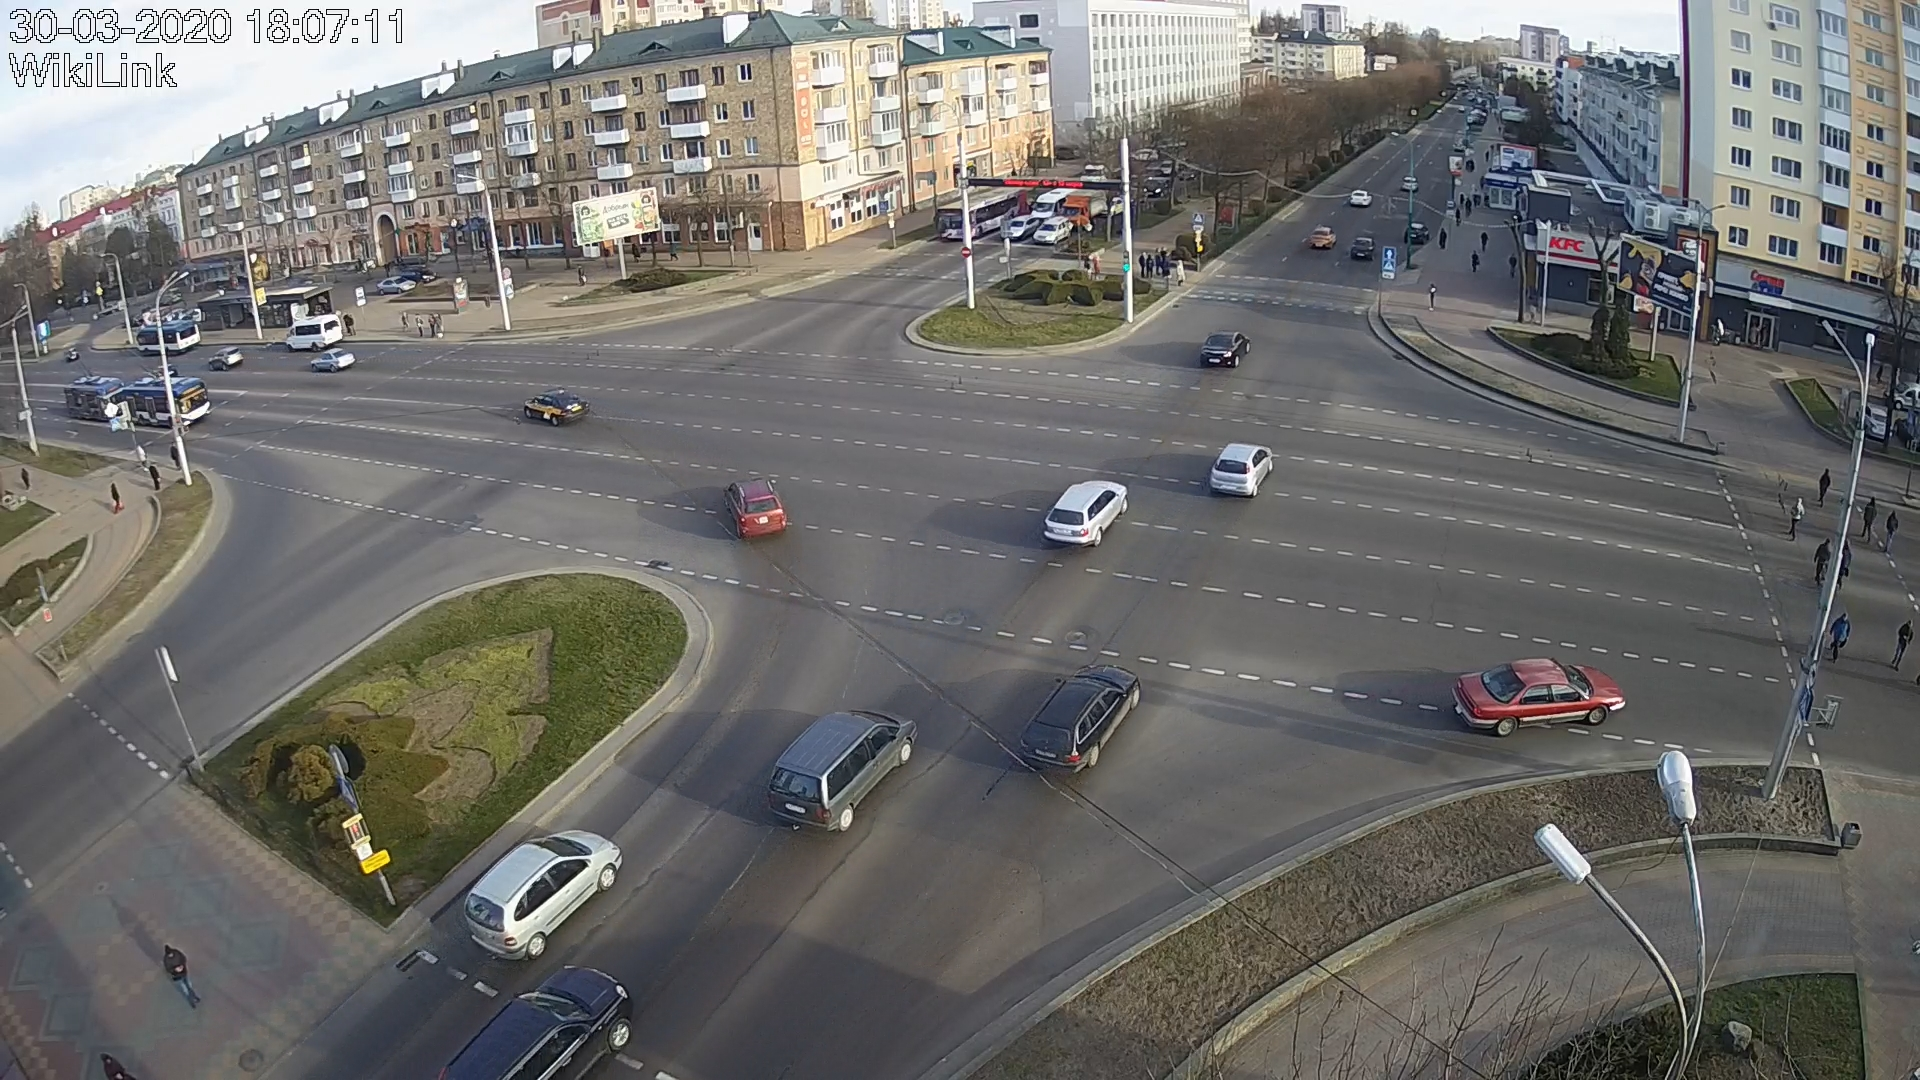bus: (938, 186, 1029, 240), (124, 376, 211, 427), (65, 375, 125, 419), (136, 320, 202, 355)
car: (462, 829, 622, 963), (767, 705, 918, 835), (1451, 658, 1627, 738), (1018, 662, 1142, 775), (1043, 479, 1129, 549), (723, 477, 789, 541), (1209, 440, 1274, 498), (524, 388, 589, 426), (286, 314, 344, 352), (1200, 330, 1251, 367), (311, 347, 356, 373), (1033, 216, 1072, 243), (207, 347, 243, 371), (1010, 214, 1039, 237)
